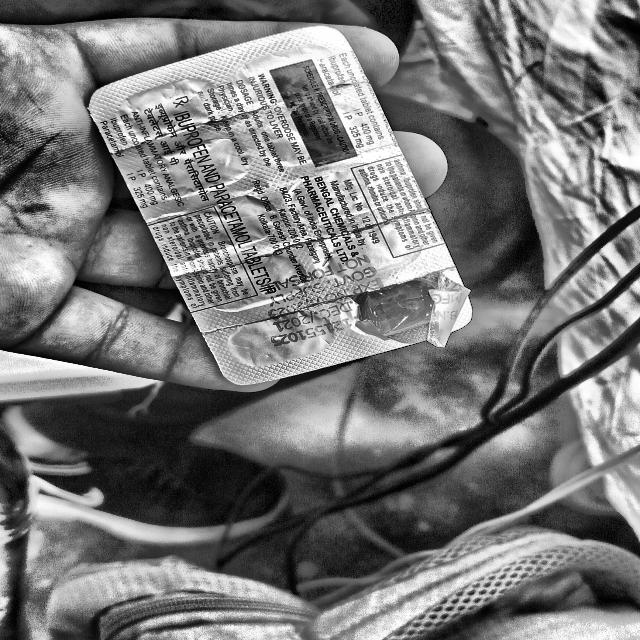IBUPROFEN AND PARACETAMOL TABLETS: (158, 109, 278, 257)
